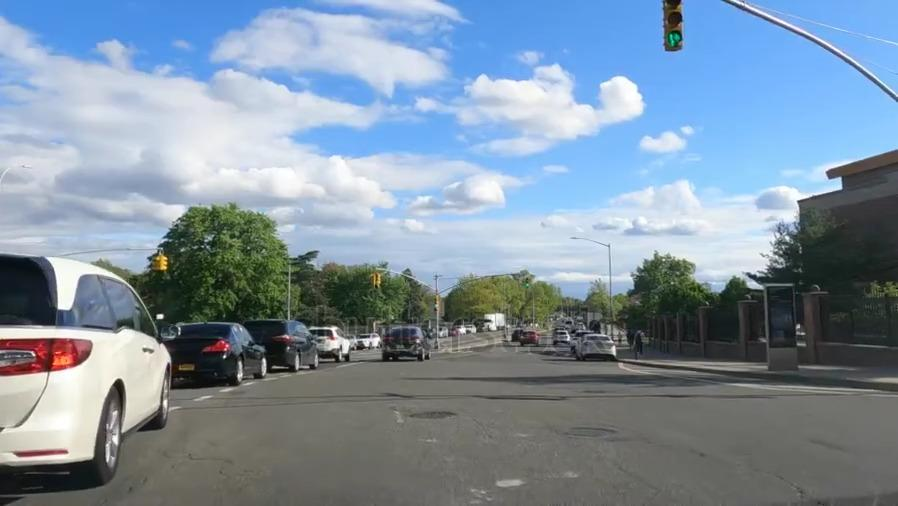car: (0, 243, 171, 482), (163, 317, 270, 384), (246, 311, 322, 374), (383, 322, 435, 364), (310, 319, 352, 363), (579, 334, 619, 360), (355, 329, 383, 352), (524, 330, 542, 348), (553, 329, 569, 345), (511, 328, 523, 341)
manhole: (410, 406, 459, 425)
person: (633, 327, 647, 355)
pothole: (565, 421, 617, 443)
traffic light: (653, 0, 692, 58), (149, 250, 170, 275), (368, 270, 382, 292), (430, 291, 442, 315), (524, 275, 531, 289)
wheel: (94, 379, 127, 483), (153, 367, 176, 432), (229, 355, 251, 386), (250, 354, 271, 378)
